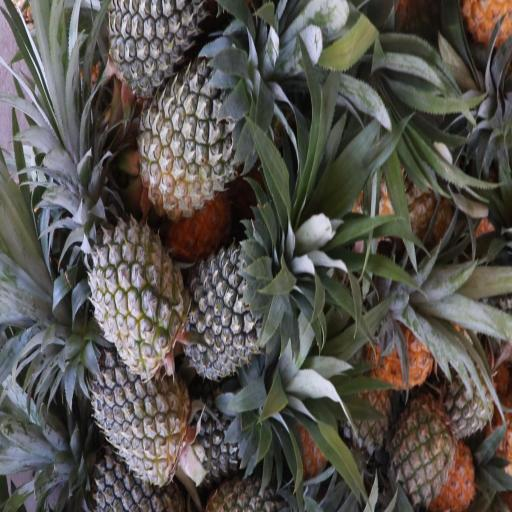------------------------------: (145, 65, 255, 208), (94, 215, 182, 367), (391, 400, 455, 504)
